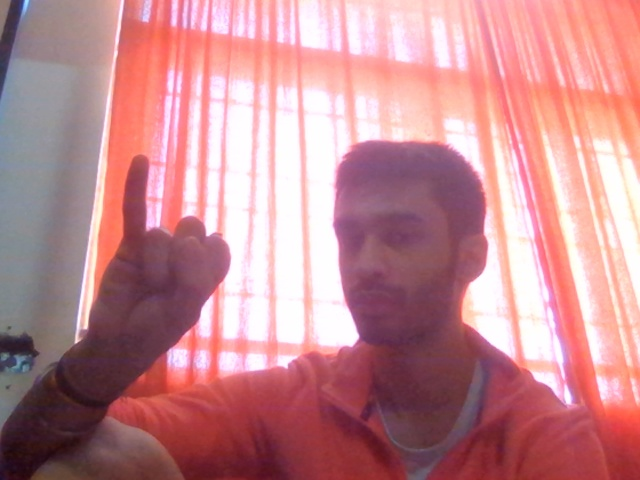I: (49, 126, 272, 421)
